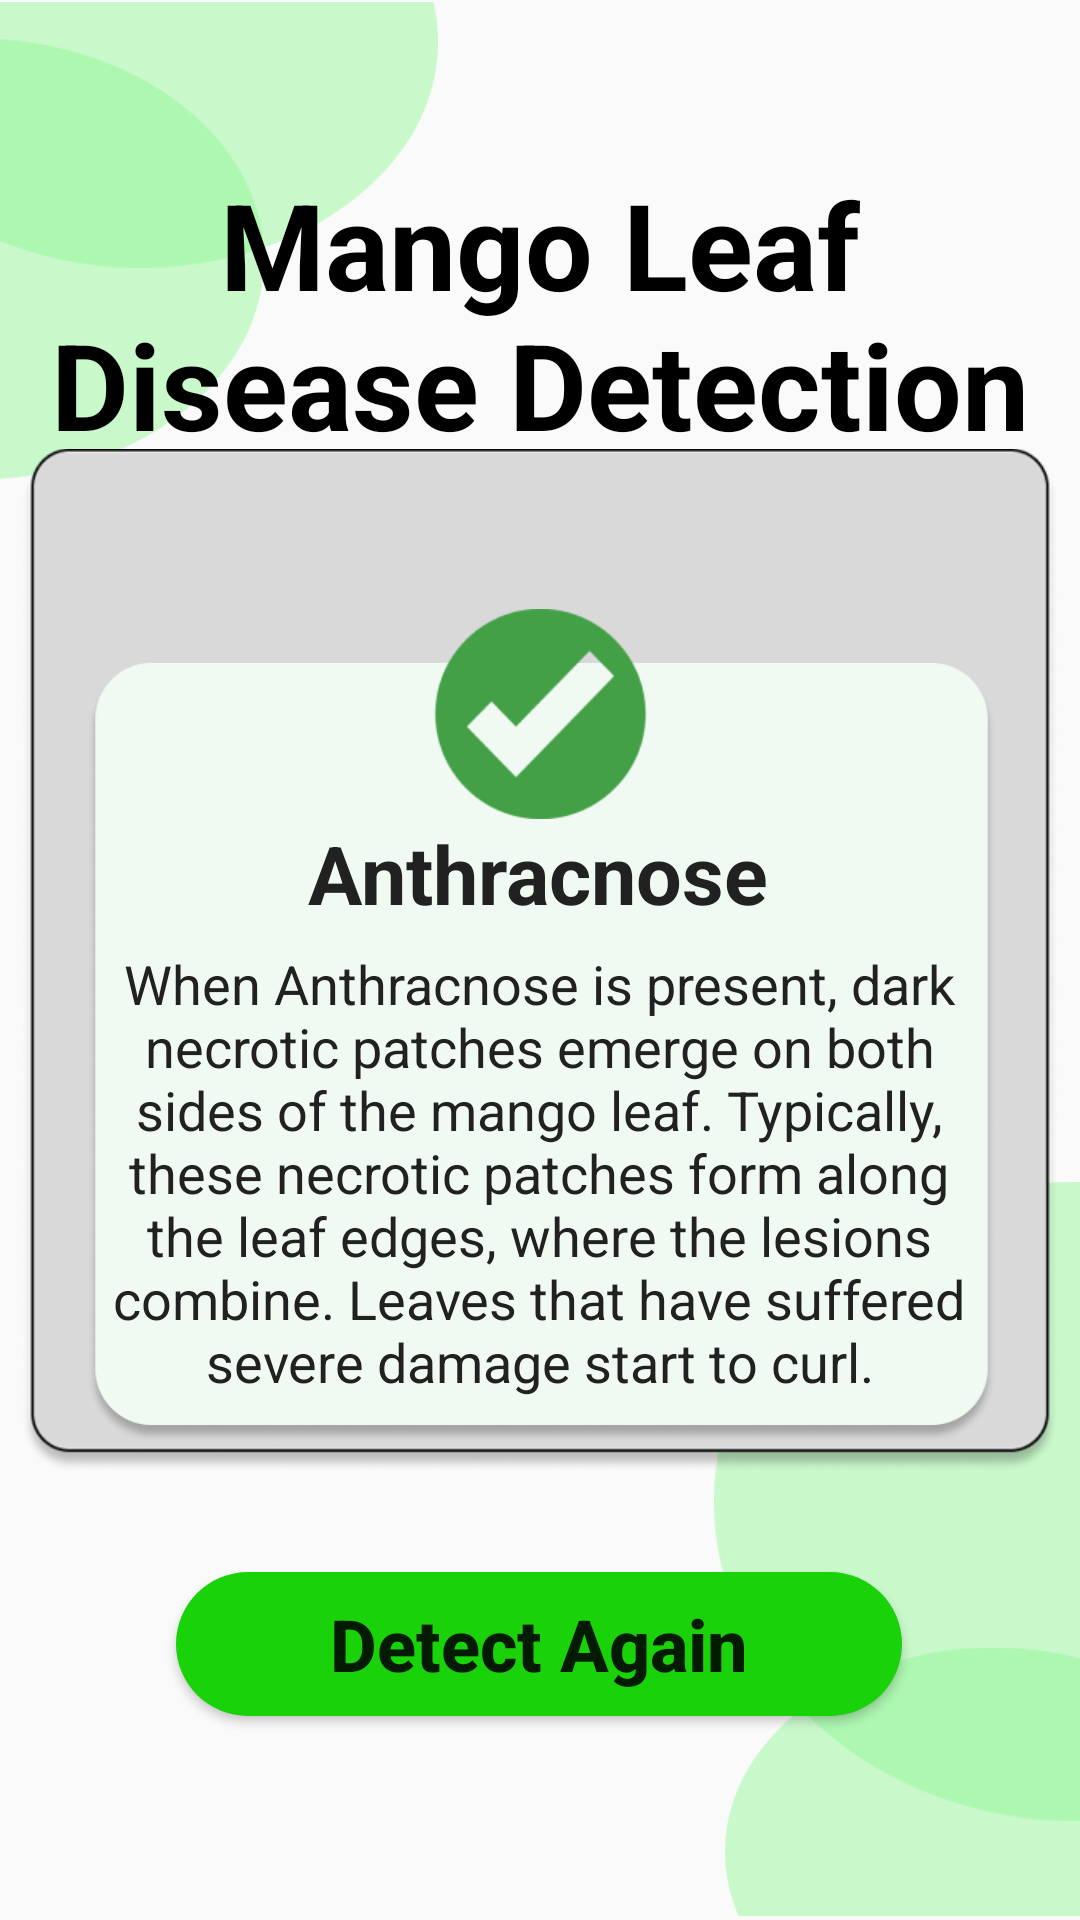

Locate icon controls on the screen. Image size 1080px x 1920px, boxes as (x1, y1, x2, y2).
check: (428, 609, 653, 819)
